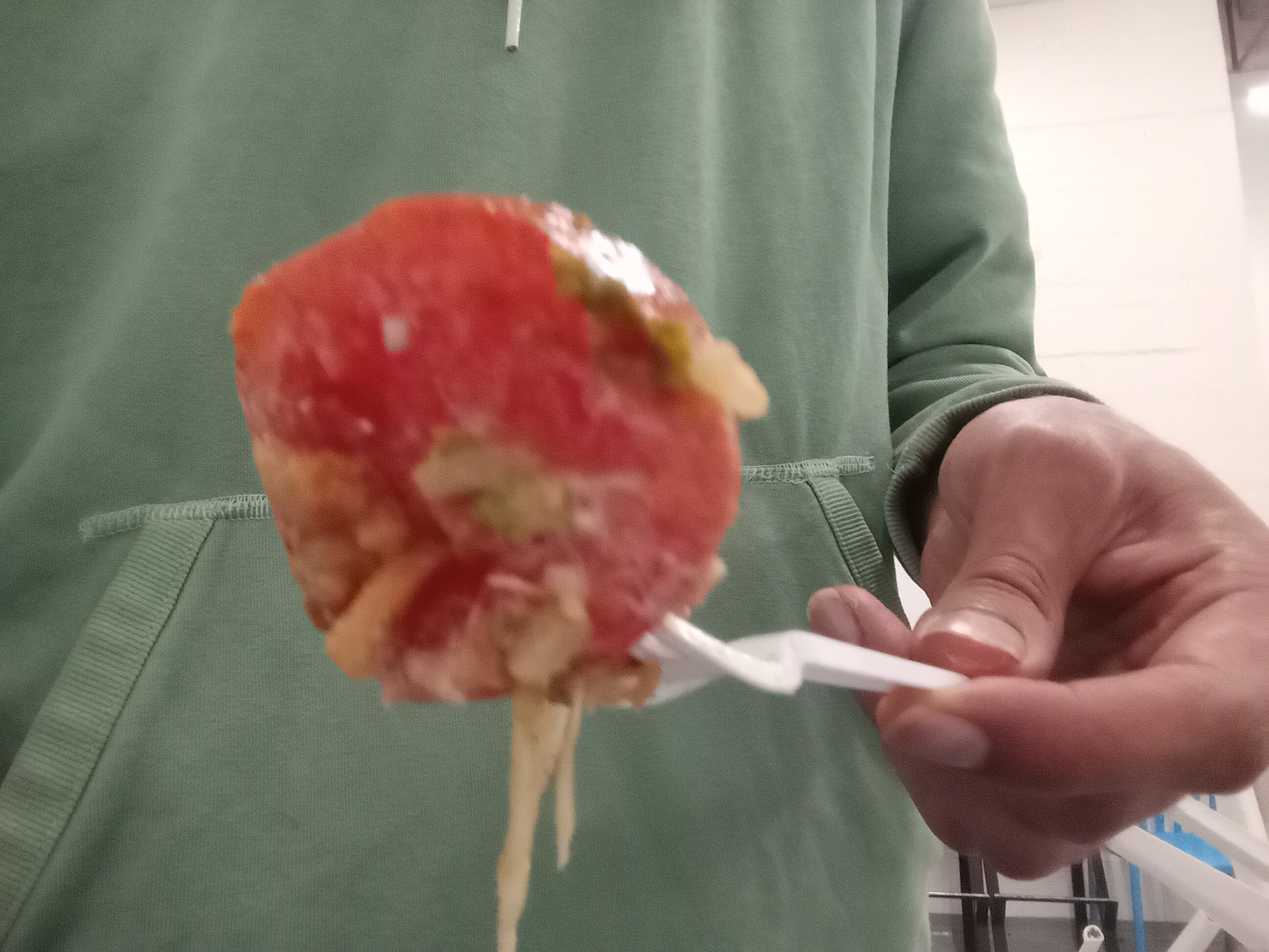Organico: (223, 194, 770, 705)
